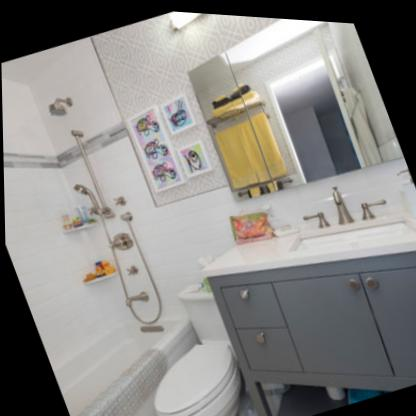Cabinet: (202, 192, 416, 416)
